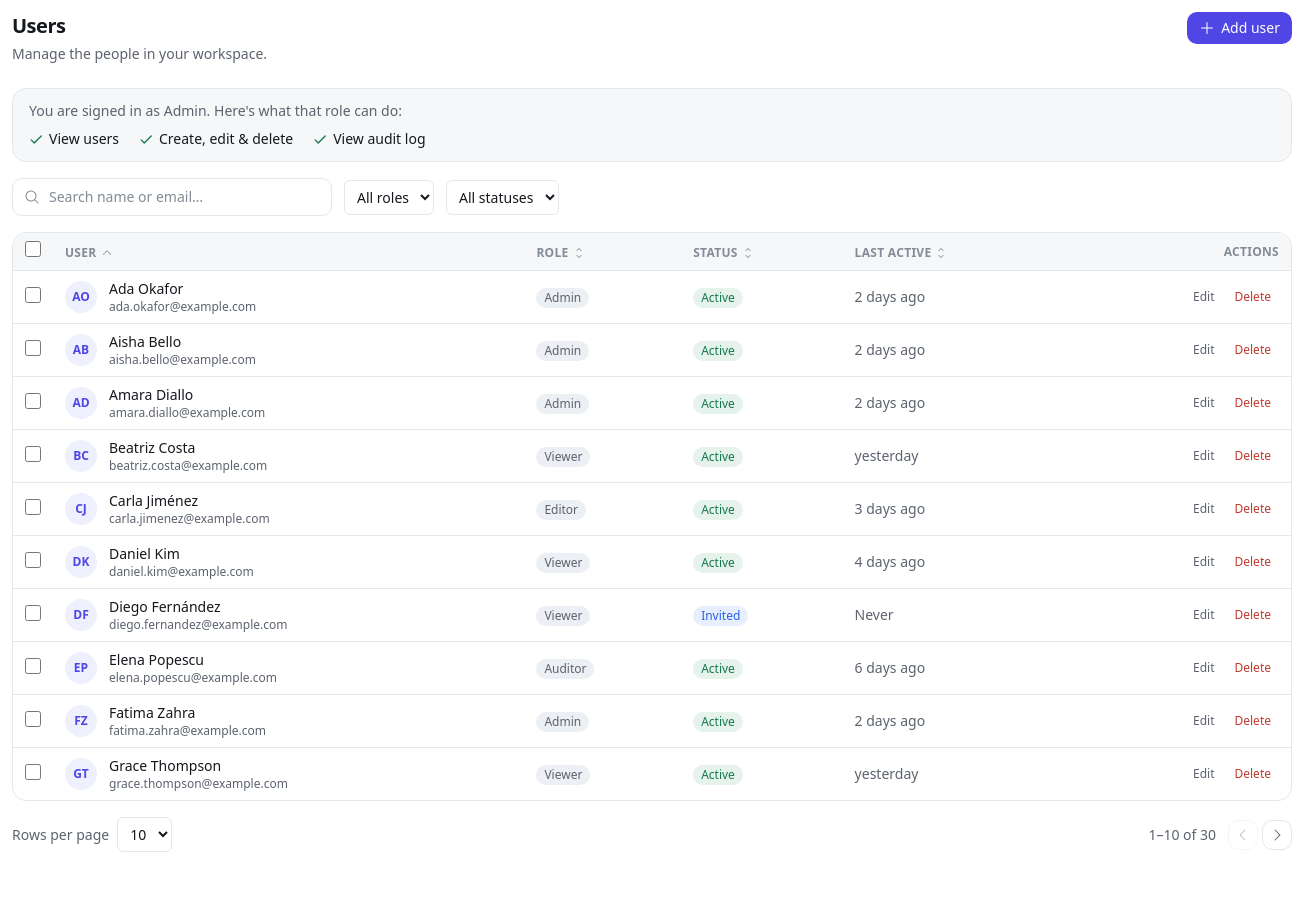
UsersPage › paginates to the next page
Check: the text "Ada Okafor" is shown, box 109,279 -> 183,298
Click the button named "Next page". click: (1277, 834)
box: 1262,820 -> 1292,850
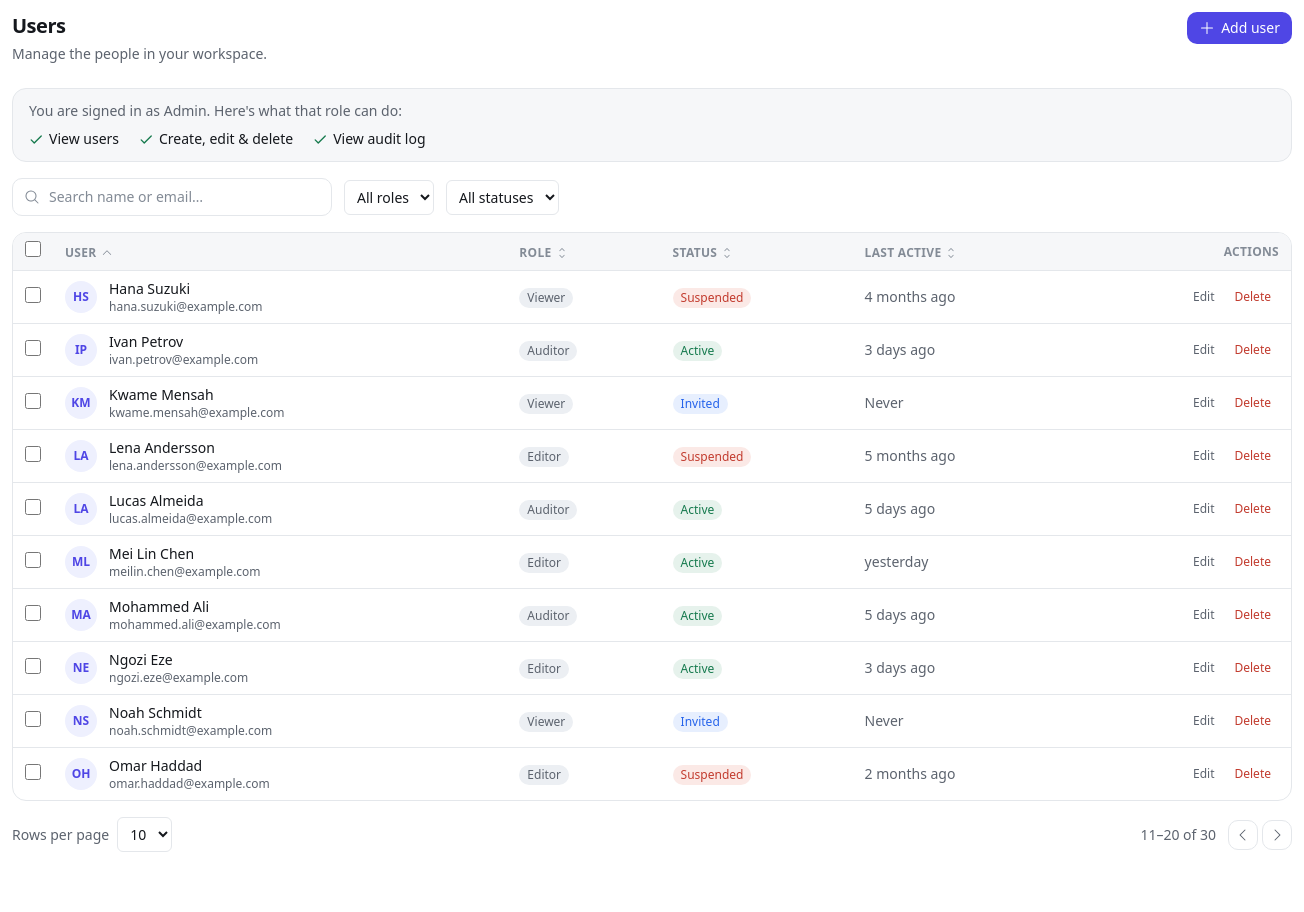
Check: the text "Ivan Petrov" is shown, box 109,332 -> 183,351
Check: the text "Ada Okafor" is gone
